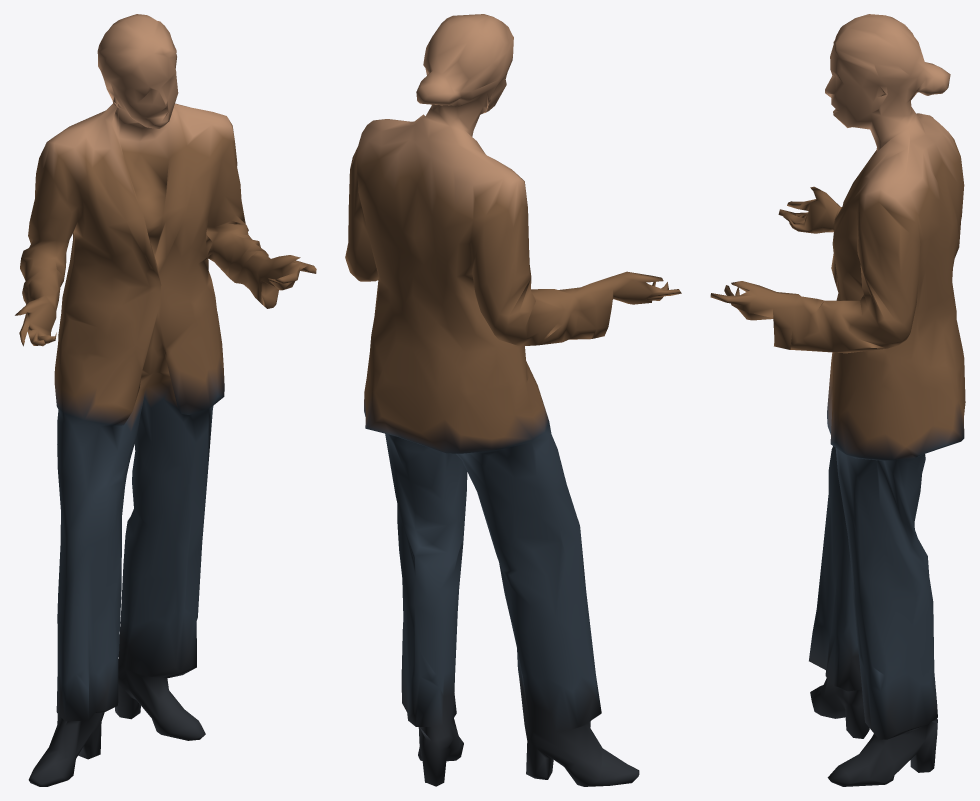
Rendered from people_typ13_stand.glb.
3 views of the same model, side by side, from view 1: azimuth 30°, elevation 25°; view 2: azimuth 150°, elevation 25°; view 3: azimuth 270°, elevation 25° (orthographic). The views are drawn at different scales.
Visible parts, largest first — view 1: people_typ13_stand-mesh; view 2: people_typ13_stand-mesh; view 3: people_typ13_stand-mesh.
Boxes of the visible parts, box(x1,y1,x2,y2) form: people_typ13_stand-mesh: box(15, 14, 316, 786); people_typ13_stand-mesh: box(345, 14, 681, 786); people_typ13_stand-mesh: box(710, 14, 965, 786).
Size of the model in its own units: 0.7102 by 1.8 by 0.5587.
